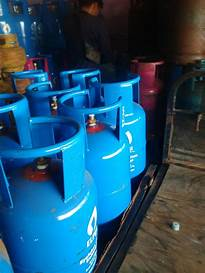blue_gas: (1, 116, 98, 273), (58, 92, 133, 225), (89, 75, 146, 180), (14, 71, 84, 114), (60, 67, 101, 107), (1, 92, 32, 129)
bright_gas: (132, 56, 163, 116)
gas_ijo: (1, 35, 25, 72)
